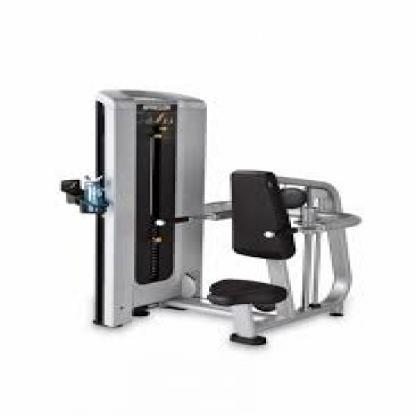seated dip machine: (55, 77, 364, 358)
